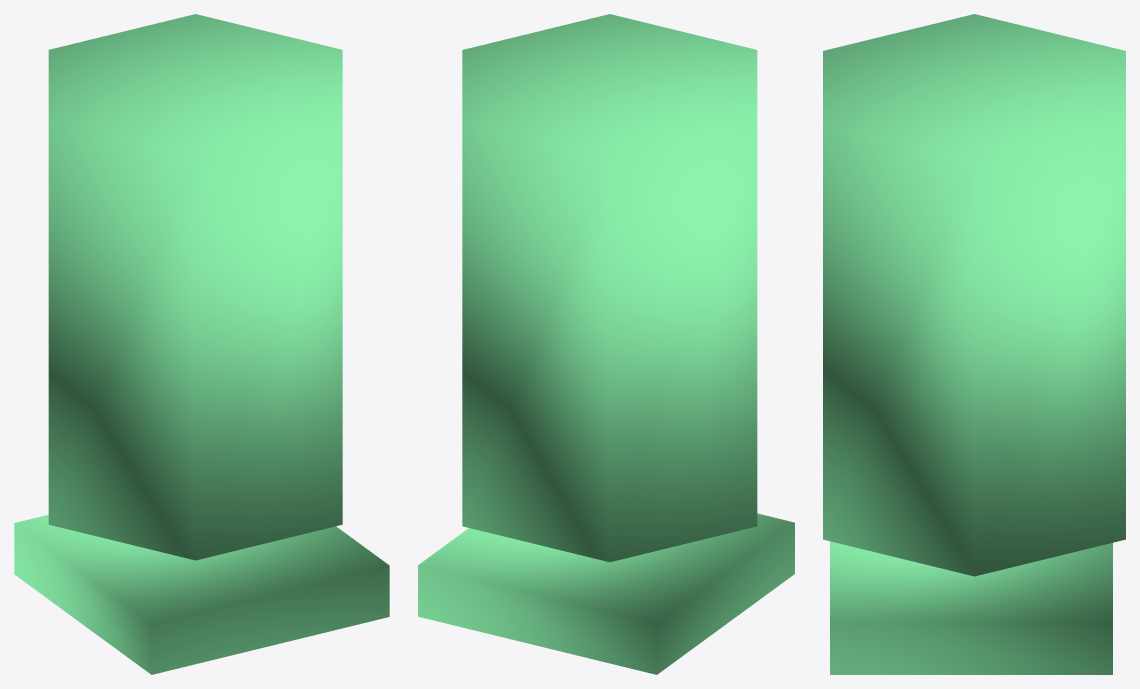
Rendered from ps2_jrpg_crystal_charm.obj.
The picture shows the model from 3 angles, left to right: view 1: azimuth 30°, elevation 25°; view 2: azimuth 150°, elevation 25°; view 3: azimuth 270°, elevation 25°; orthographic projection. The views are drawn at different scales.
Size of the model in its own units: 0.84 by 1.39 by 0.7275.
